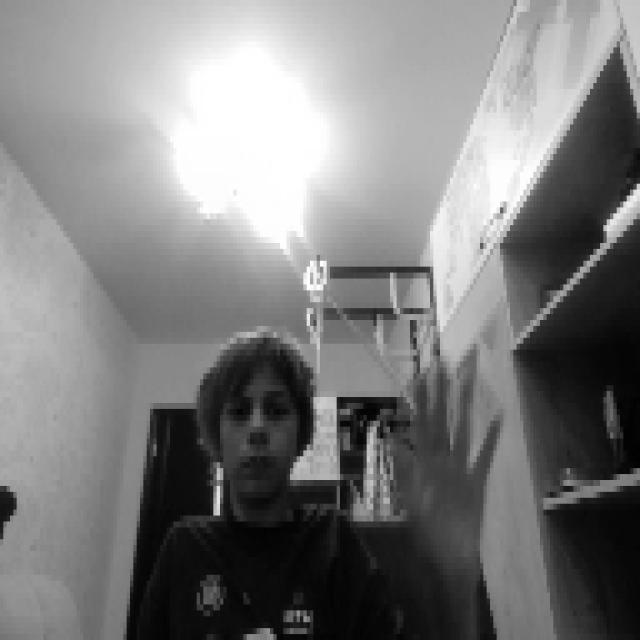hand: (387, 344, 500, 598)
